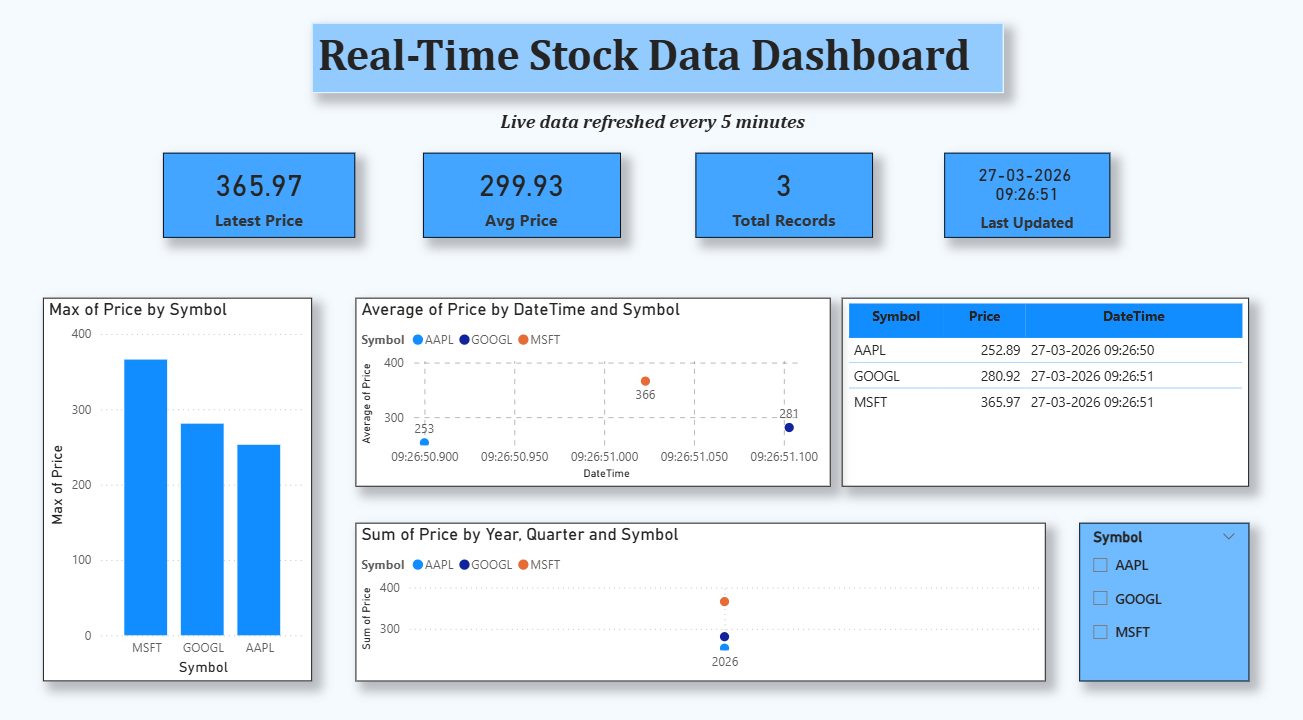

The page's visual inventory and layout, read from the dashboard file:
{"tool":"powerbi","page":{"name":"Page 1","canvas":[1280,720],"ordinal":0},"visuals":[{"type":"slicer","fields":{"Values":["stock_data.symbol"]},"box":[1057.8,517.3,166.3,155.3],"z":1000},{"type":"card","fields":{"Values":["stock_data.Latest Price"]},"box":[161.4,155.3,188.3,83.2],"z":2000},{"type":"tableEx","fields":{"Values":["stock_data.symbol","Sum(stock_data.price)","stock_data.DateTime"]},"box":[825.4,297.1,398.6,184.6],"z":3000},{"type":"textbox","box":[306.7,27.6,677,69.1],"z":4000},{"type":"card","fields":{"Values":["stock_data.Total Records"]},"box":[682.3,155.3,173.6,83.2],"z":5000},{"type":"card","fields":{"Values":["stock_data.Avg Price"]},"box":[415.8,155.3,193.2,83.2],"z":6000},{"type":"textbox","box":[486.7,108.8,317.9,36.7],"z":7000},{"type":"card","fields":{"Values":["stock_data.Last Updated"]},"box":[925.7,155.3,162.6,83.2],"z":8000},{"type":"columnChart","fields":{"Category":["stock_data.Symbol"],"Y":["Max(stock_data.Price)"]},"box":[44,297.1,262.9,375.4],"z":8002},{"type":"lineChart","fields":{"Category":["stock_data.timestamp"],"Y":["Avg(stock_data.price)"],"Series":["stock_data.symbol"]},"box":[349.7,297.1,464.7,184.6],"z":8003},{"type":"lineChart","fields":{"Category":["stock_data.DateTime.Variation.Date Hierarchy.Year","stock_data.DateTime.Variation.Date Hierarchy.Quarter","stock_data.DateTime.Variation.Date Hierarchy.Month","stock_data.DateTime.Variation.Date Hierarchy.Day"],"Y":["Sum(stock_data.Price)"],"Series":["stock_data.Symbol"]},"box":[349.7,517.3,675,155.3],"z":8004}]}

Visuals, with their boxes in screenshot pixels (x1, y1, x2, y2), scaled from the page's 1280x720 canvas onto the 1303x720 screenshot:
slicer - stock_data.symbol: (1077,517,1246,673)
card - stock_data.Latest Price: (164,155,356,238)
tableEx - stock_data.symbol x Sum(stock_data.price): (840,297,1246,482)
textbox: (312,28,1001,97)
card - stock_data.Total Records: (695,155,871,238)
card - stock_data.Avg Price: (423,155,620,238)
textbox: (495,109,819,146)
card - stock_data.Last Updated: (942,155,1108,238)
columnChart - stock_data.Symbol x Max(stock_data.Price): (45,297,312,672)
lineChart - stock_data.timestamp x Avg(stock_data.price): (356,297,829,482)
lineChart - stock_data.DateTime.Variation.Date Hierarchy.Year x stock_data.DateTime.Variation.Date Hierarchy.Quarter: (356,517,1043,673)
